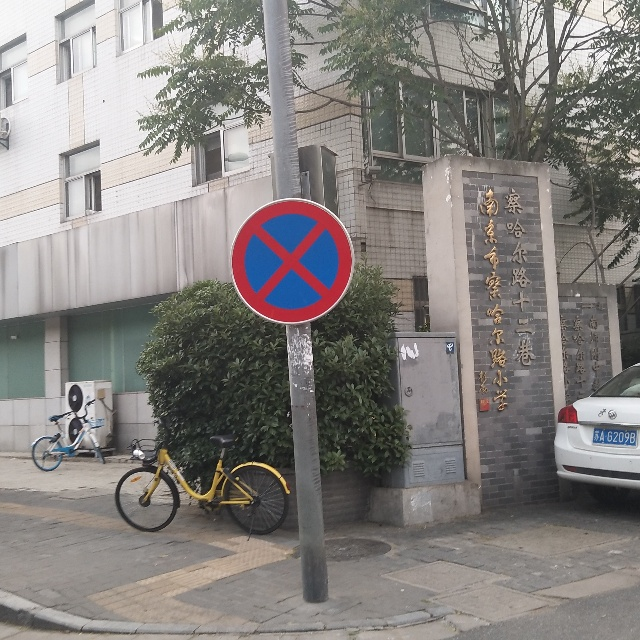stop: (229, 194, 354, 325)
